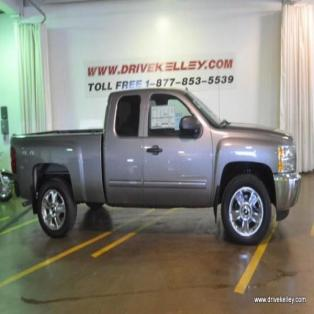Auto: (8, 88, 301, 246)
